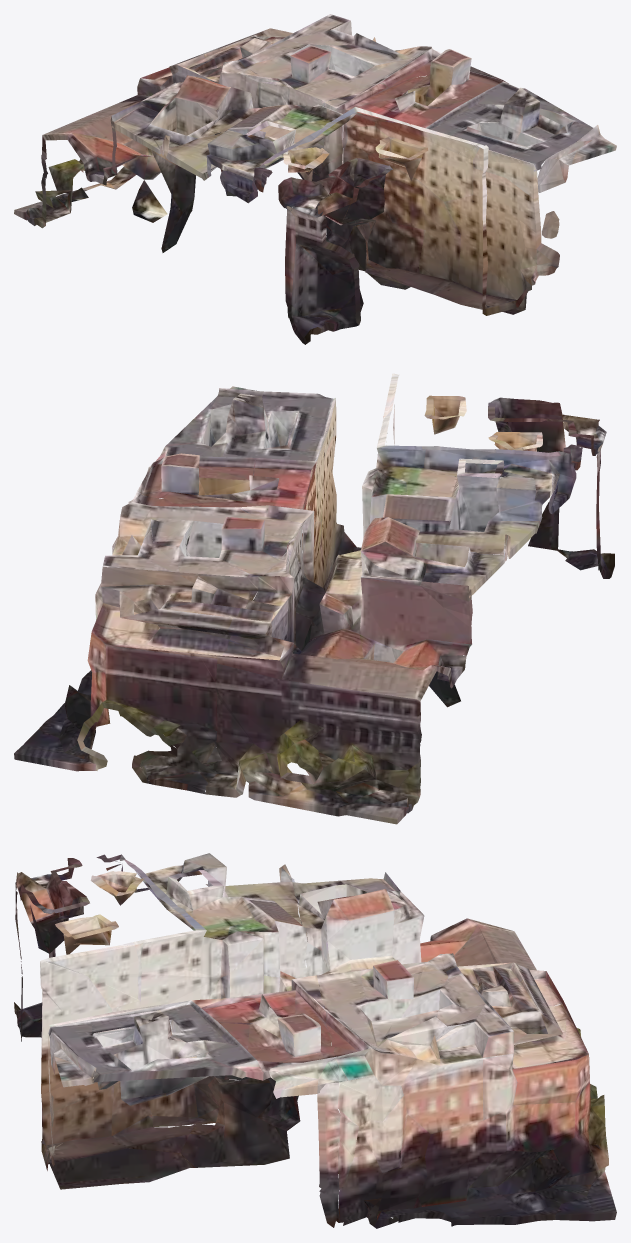
3 renders of one model, top to bottom at view 1: azimuth 30°, elevation 25°; view 2: azimuth 150°, elevation 25°; view 3: azimuth 270°, elevation 25°, orthographic. The views are drawn at different scales.
Visible parts, largest first — view 1: Mesh_0; view 2: Mesh_0; view 3: Mesh_0.
Boxes of the visible parts, bbox=[...] form: Mesh_0: bbox=[14, 14, 616, 344]; Mesh_0: bbox=[14, 373, 614, 824]; Mesh_0: bbox=[14, 853, 616, 1228].
Size of the model in its own units: 66.57 by 32.64 by 82.59.
Materials: 1 (1 with a texture image).
